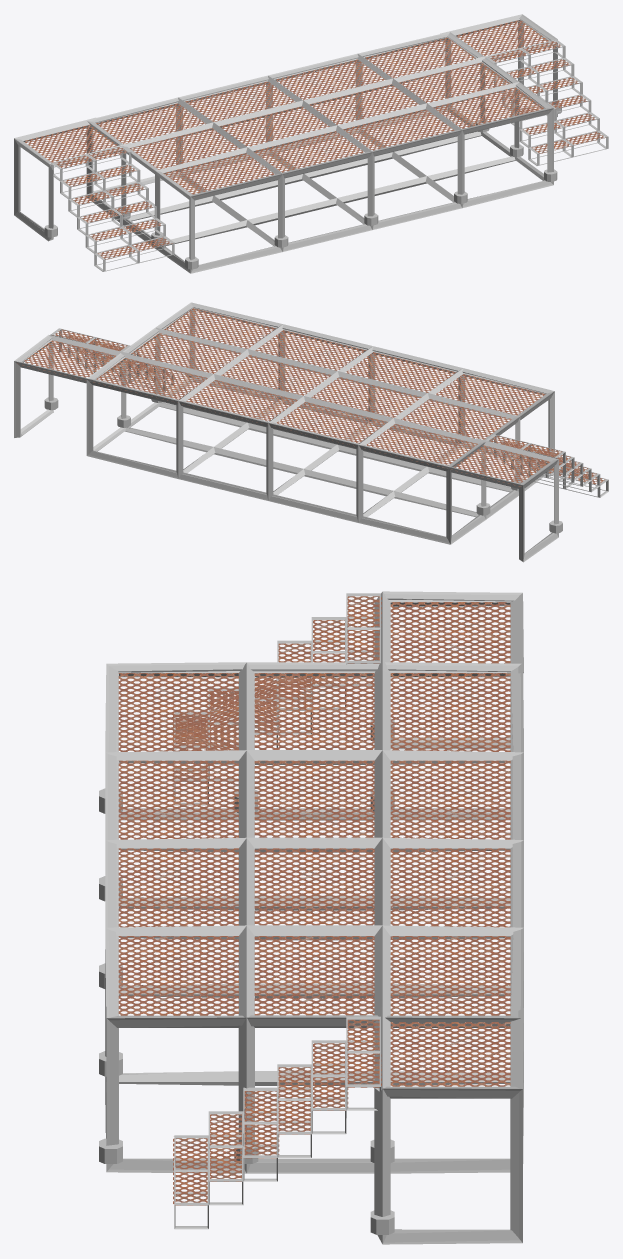
File: FBXstairsncatwalk.fbx
The picture shows the model from 3 angles, top to bottom: view 1: azimuth 30°, elevation 25°; view 2: azimuth 150°, elevation 25°; view 3: azimuth 270°, elevation 25°; orthographic projection. The views are drawn at different scales.
Parts seen in each view (by area): view 1: catwalk, stairsL, stairsR; view 2: catwalk, stairsL, stairsR; view 3: catwalk, stairsR, stairsL.
Part boxes in pixels (x1,y1,x2,y2): catwalk: (14,14,561,273); stairsL: (51,145,174,271); stairsR: (485,39,608,165); catwalk: (14,302,562,562); stairsL: (486,434,608,497); stairsR: (50,328,174,391); catwalk: (99,591,523,1244); stairsR: (173,1016,381,1229); stairsL: (173,593,381,805).
Size of the model in its own units: 2139 by 319 by 766.
